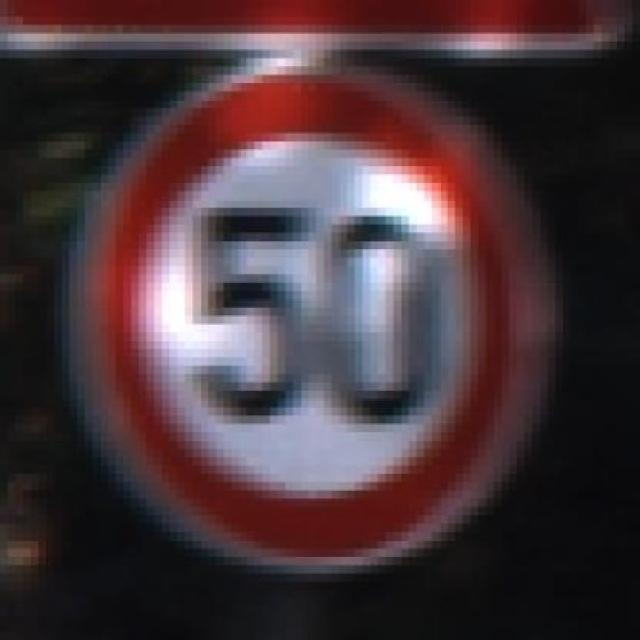forb_speed_over_50: (87, 66, 535, 563)
